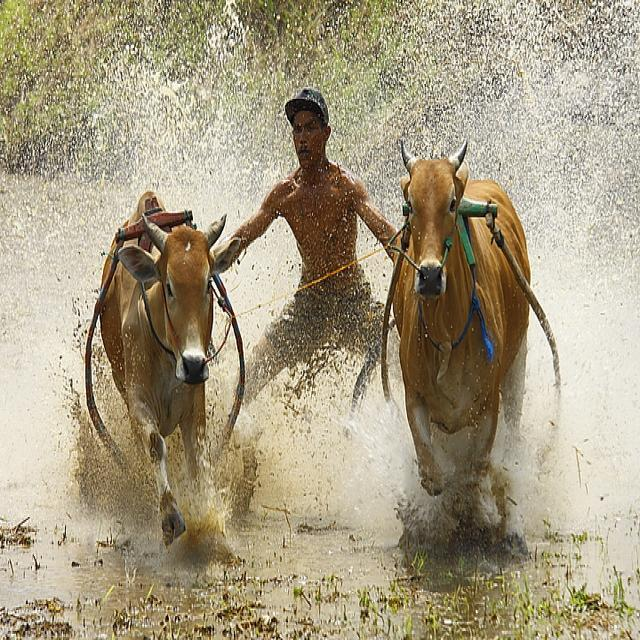cow: (97, 192, 240, 548), (391, 135, 529, 496)
